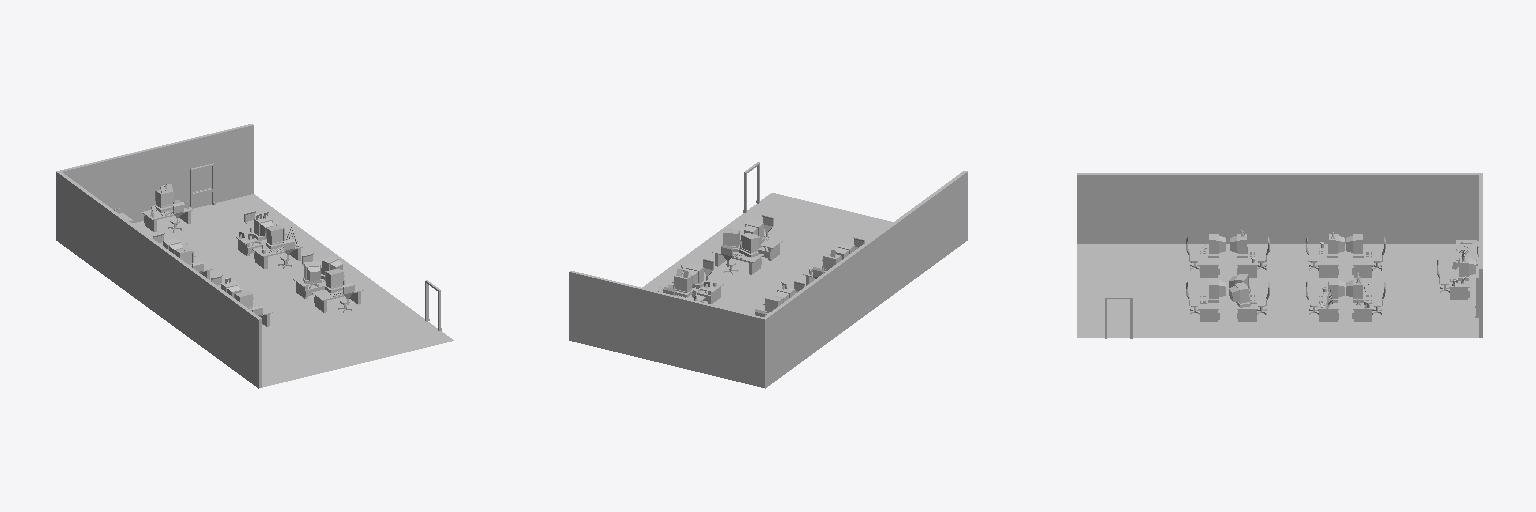
Rendered from Level 2 - Initial Test.obj.
3 renders of one model, left to right at view 1: azimuth 30°, elevation 25°; view 2: azimuth 150°, elevation 25°; view 3: azimuth 270°, elevation 25°, orthographic.
Visible parts, largest first — view 1: ENV_Level2Main; view 2: ENV_Level2Main; view 3: ENV_Level2Main.
Boxes of the visible parts, x1=… form: ENV_Level2Main: x1=56, y1=124, x2=453, y2=388; ENV_Level2Main: x1=569, y1=162, x2=967, y2=388; ENV_Level2Main: x1=1077, y1=173, x2=1482, y2=338.
Size of the model in its own units: 1625 by 543 by 2886.